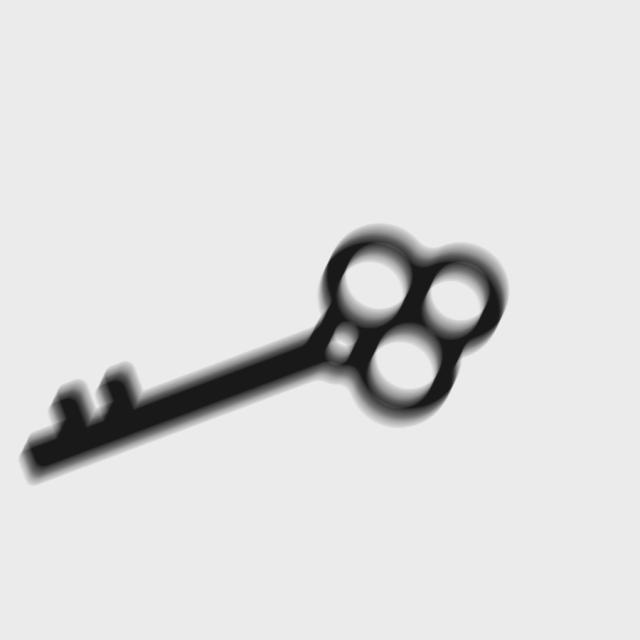key: (12, 221, 514, 496)
